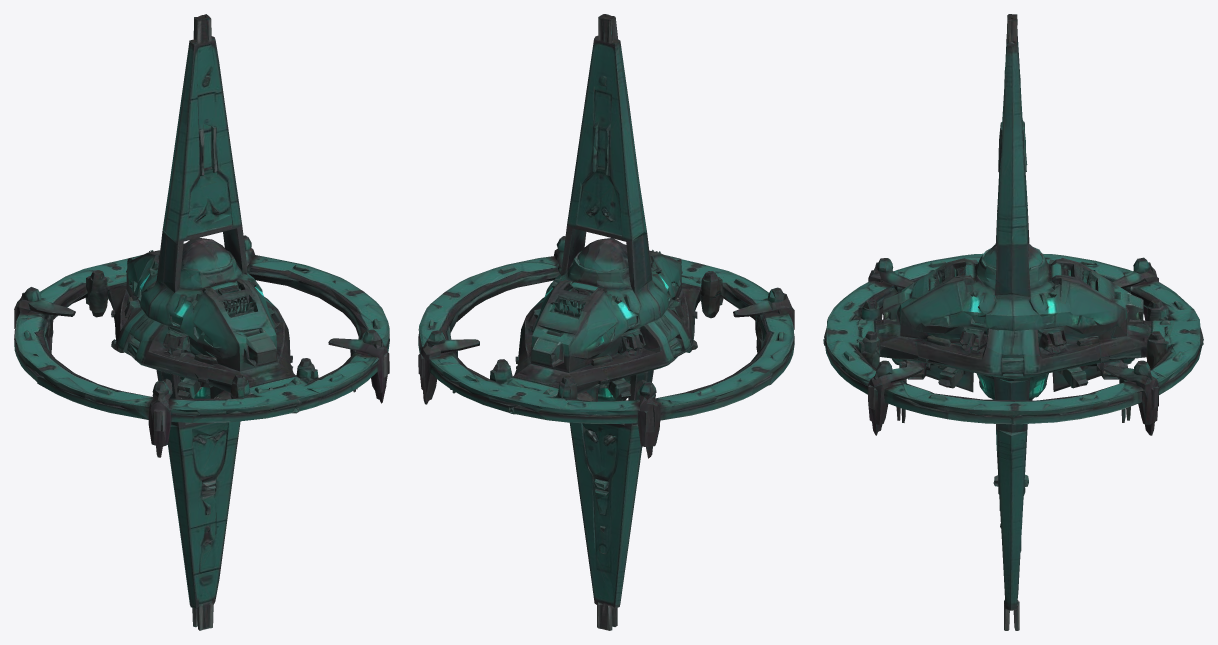
The model's file is enemy-uranus-fortress.glb.
3 renders of one model, left to right at view 1: azimuth 30°, elevation 25°; view 2: azimuth 150°, elevation 25°; view 3: azimuth 270°, elevation 25°, orthographic.
Size of the model in its own units: 1.07 by 1.9 by 1.07.
Materials: 1 (1 with a texture image).
